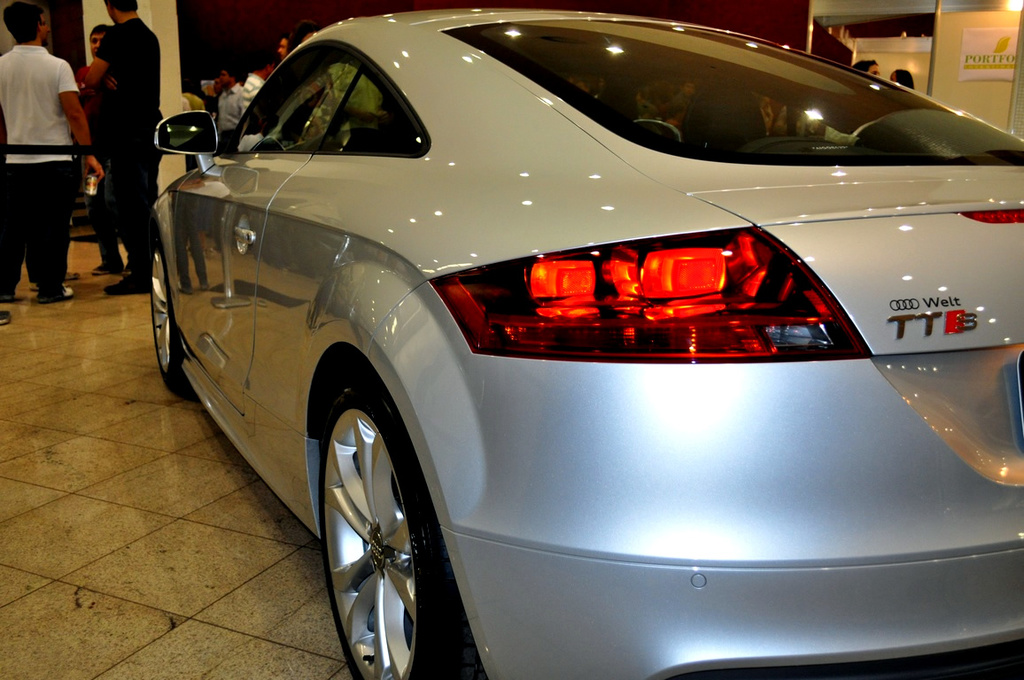Car: (136, 0, 1024, 679)
